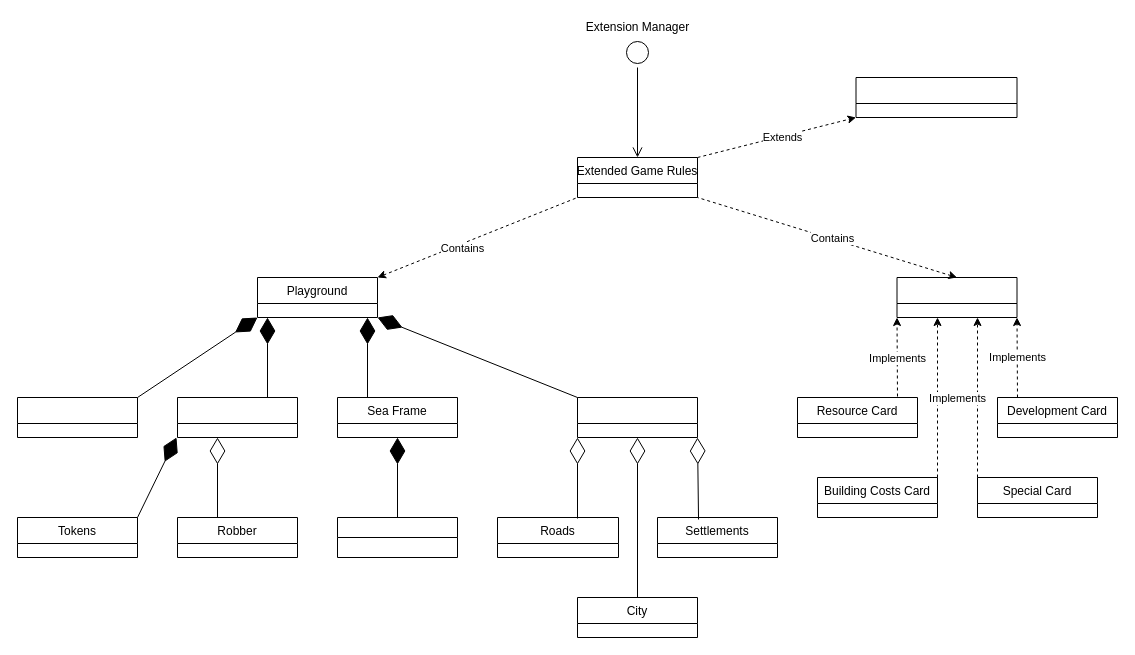
The diagram is 1135 pixels wide and 655 high, and some of its shapes have lost their labels. The box of each missing label's shape, as (x1, y1, x2, y2) in pixels:
Card Interface: (896, 276, 1017, 318)
Dice: (16, 396, 138, 438)
Formatiune: (576, 396, 698, 438)
Games Rules: (855, 76, 1017, 118)
Harbor: (336, 516, 458, 558)
Tile: (176, 396, 298, 438)
